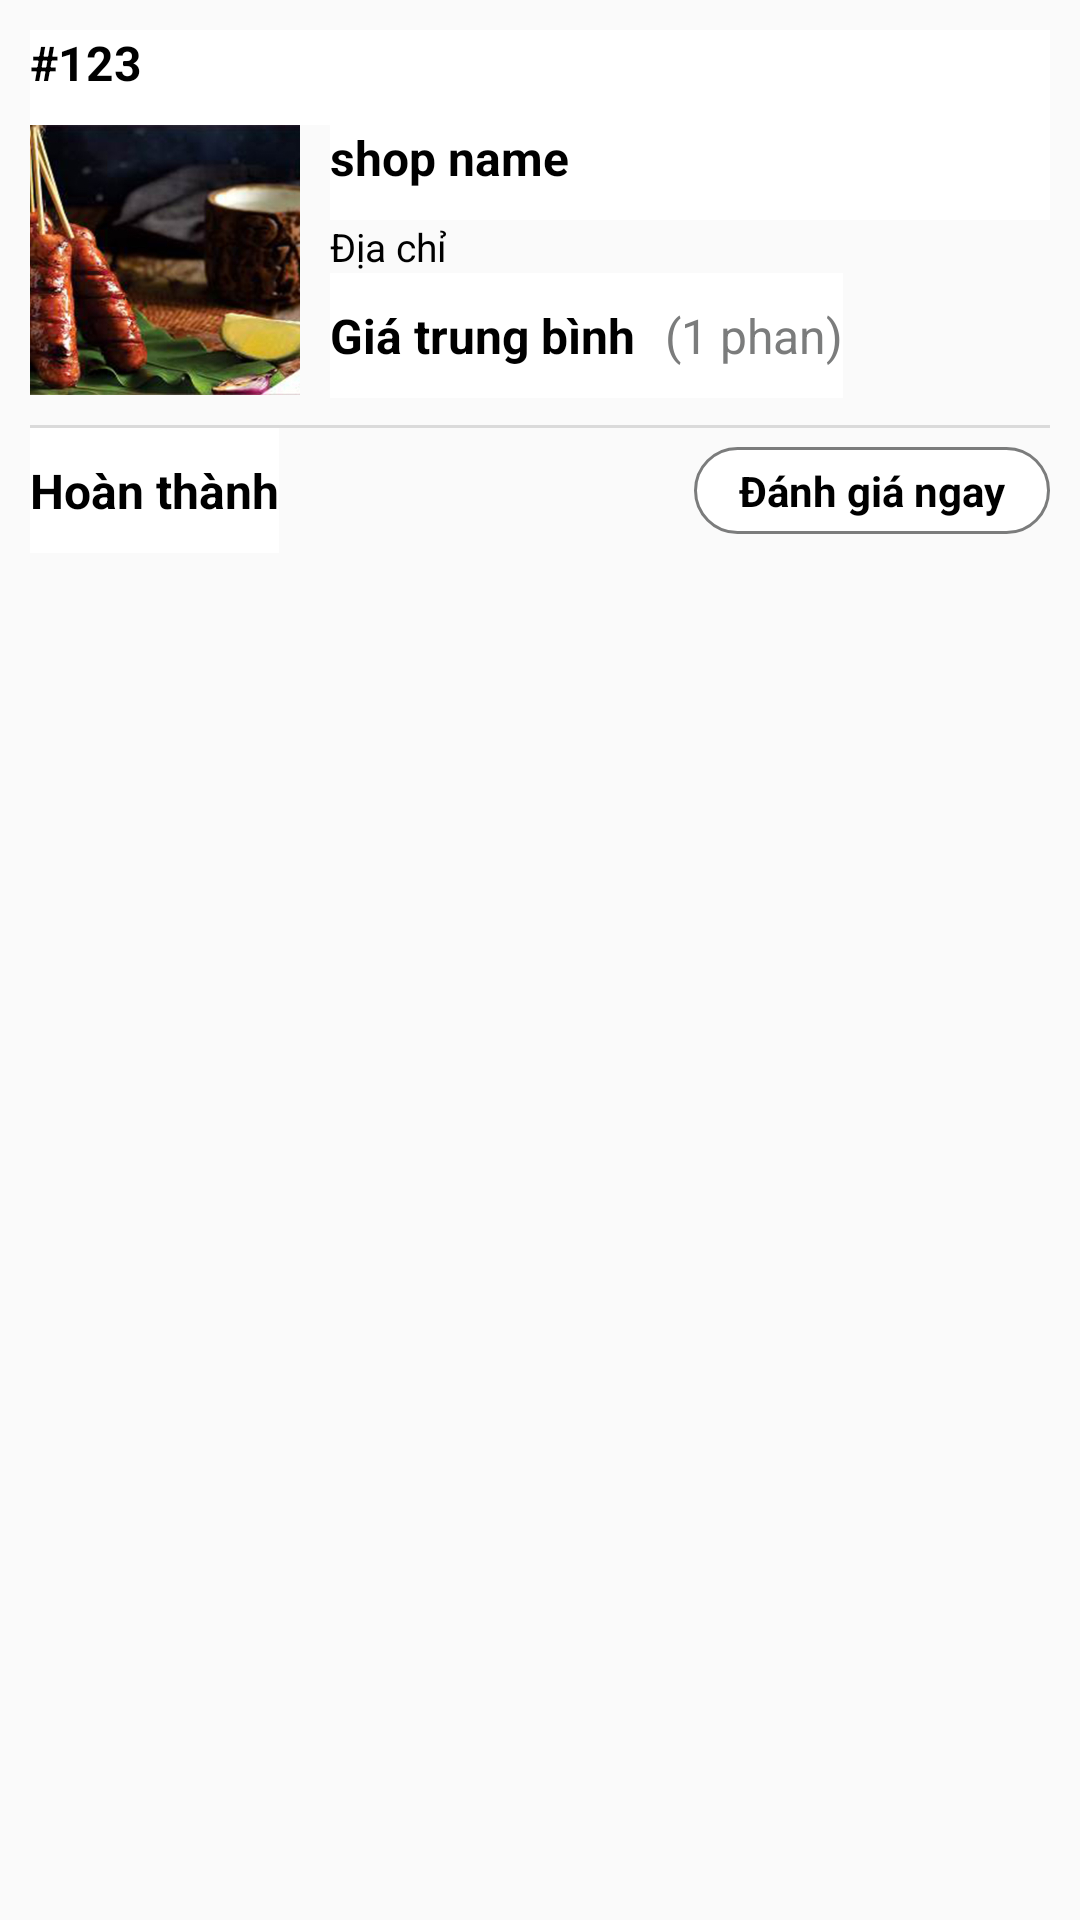

Icon click points for this 1080px x 1920px phone screenshot, format (x=x, y=y):
chenfood: (x=165, y=260)
